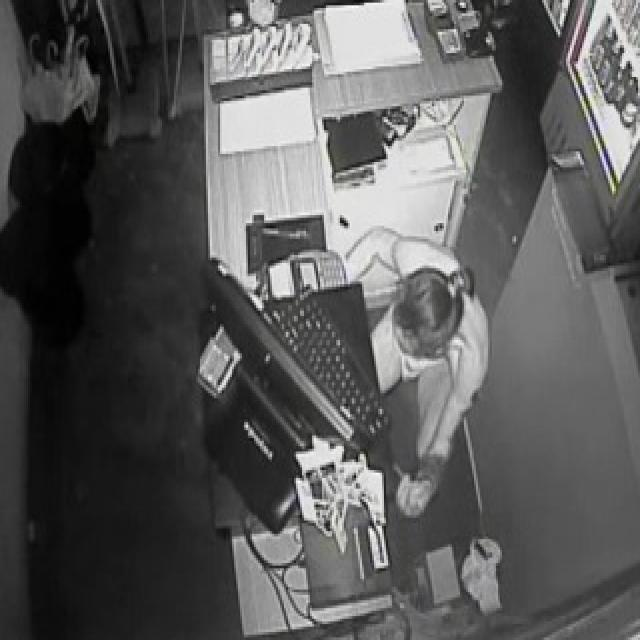thief: (388, 233, 476, 432)
